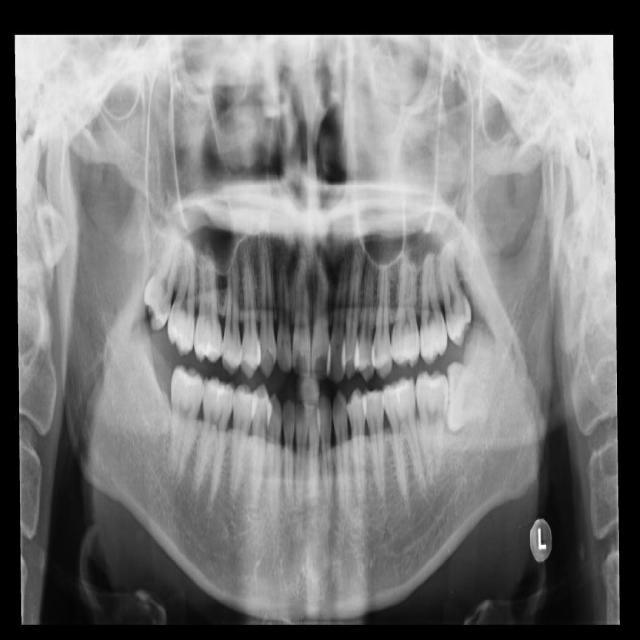3M ESPE Implant: (138, 225, 183, 331)
52: (193, 374, 241, 426), (377, 374, 425, 423), (193, 314, 225, 363)
73: (584, 550, 595, 560)
BioHorizons Implant: (420, 253, 447, 364)
BioLife Implant: (433, 238, 476, 348)
Biomet 3i Implant: (444, 361, 493, 434)
Blue Sky Bio Implant: (411, 370, 450, 478)
Caries: (167, 240, 195, 355)
Implant: (165, 364, 206, 486)
